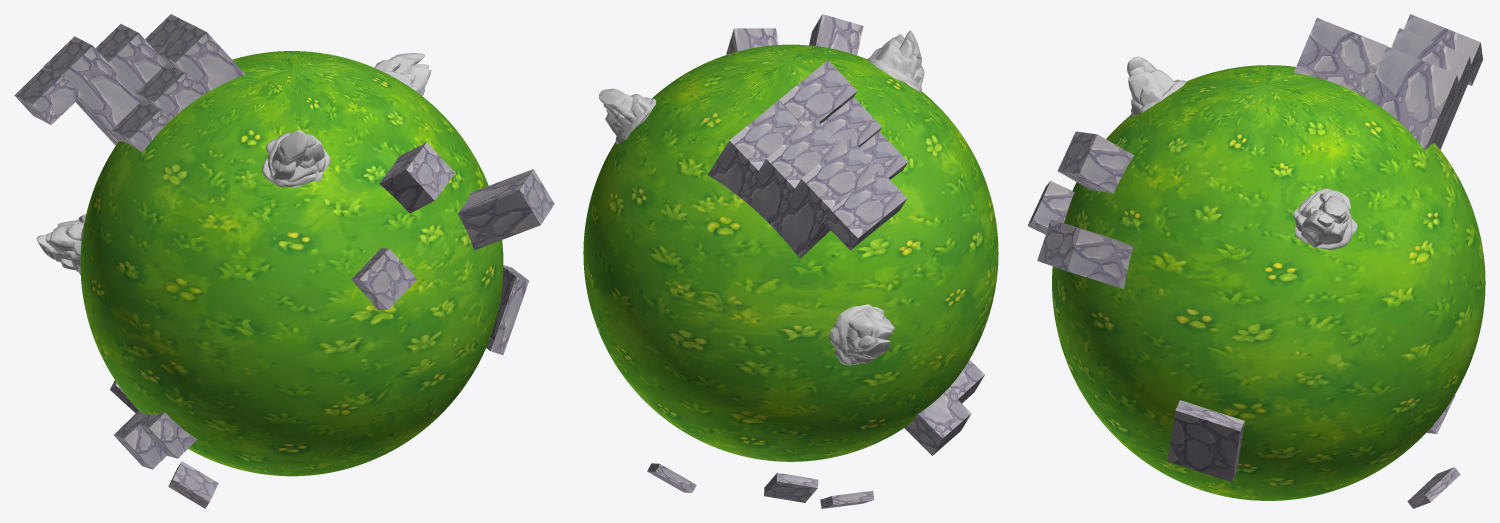
The model's file is planet_3.fbx.
3 views of the same model, side by side, from view 1: azimuth 30°, elevation 25°; view 2: azimuth 150°, elevation 25°; view 3: azimuth 270°, elevation 25° (orthographic). The views are drawn at different scales.
Parts seen in each view (by area): view 1: 球, 立方体.005, 立方体.009, 立方体.002, 立方体.004, Rock_Rock_MAT_0, 立方体.008, 立方体.003, 立方体.010, 立方体.001, 立方体.018, 立方体 (+6 smaller); view 2: 球, 立方体.009, 立方体.008, 立方体.007, 立方体.010, Rock_Rock_MAT_0.001, 立方体.002, 立方体.011, Rock_Rock_MAT_0, Rock_Rock_MAT_0.002, 立方体.001, 立方体.004 (+6 smaller); view 3: 球, 立方体.007, 立方体.018, 立方体.002, 立方体.005, 立方体.004, Rock_Rock_MAT_0.002, 立方体.008, Rock_Rock_MAT_0, 立方体.009, 立方体.003, 立方体.014.
Part boxes in pixels (x1=…): 球: x1=80, y1=51, x2=503, y2=476; 立方体.005: x1=457, y1=169, x2=554, y2=250; 立方体.009: x1=43, y1=36, x2=142, y2=145; 立方体.002: x1=157, y1=23, x2=245, y2=93; 立方体.004: x1=379, y1=142, x2=455, y2=213; Rock_Rock_MAT_0: x1=262, y1=130, x2=330, y2=187; 立方体.008: x1=95, y1=24, x2=166, y2=100; 立方体.003: x1=351, y1=248, x2=417, y2=310; 立方体.010: x1=14, y1=67, x2=82, y2=124; 立方体.001: x1=137, y1=64, x2=205, y2=119; 立方体.018: x1=486, y1=265, x2=528, y2=354; 立方体: x1=112, y1=100, x2=170, y2=152; 球: x1=583, y1=44, x2=998, y2=461; 立方体.009: x1=773, y1=138, x2=879, y2=258; 立方体.008: x1=742, y1=119, x2=841, y2=226; 立方体.007: x1=708, y1=100, x2=804, y2=198; 立方体.010: x1=823, y1=170, x2=907, y2=250; Rock_Rock_MAT_0.001: x1=829, y1=304, x2=894, y2=365; 立方体.002: x1=778, y1=60, x2=857, y2=127; 立方体.011: x1=904, y1=389, x2=971, y2=455; Rock_Rock_MAT_0: x1=867, y1=30, x2=924, y2=92; Rock_Rock_MAT_0.002: x1=599, y1=88, x2=656, y2=144; 立方体.001: x1=821, y1=97, x2=881, y2=147; 立方体.004: x1=809, y1=14, x2=863, y2=55; 球: x1=1052, y1=65, x2=1485, y2=500; 立方体.007: x1=1365, y1=46, x2=1458, y2=150; 立方体.018: x1=1167, y1=400, x2=1244, y2=481; 立方体.002: x1=1294, y1=18, x2=1386, y2=97; 立方体.005: x1=1037, y1=219, x2=1133, y2=288; 立方体.004: x1=1057, y1=131, x2=1134, y2=193; Rock_Rock_MAT_0.002: x1=1293, y1=188, x2=1357, y2=249; 立方体.008: x1=1391, y1=28, x2=1471, y2=145; Rock_Rock_MAT_0: x1=1127, y1=56, x2=1186, y2=117; 立方体.009: x1=1404, y1=14, x2=1481, y2=149; 立方体.003: x1=1027, y1=181, x2=1074, y2=234; 立方体.014: x1=1407, y1=467, x2=1460, y2=508.
Size of the model in its own units: 213 by 237 by 209.
